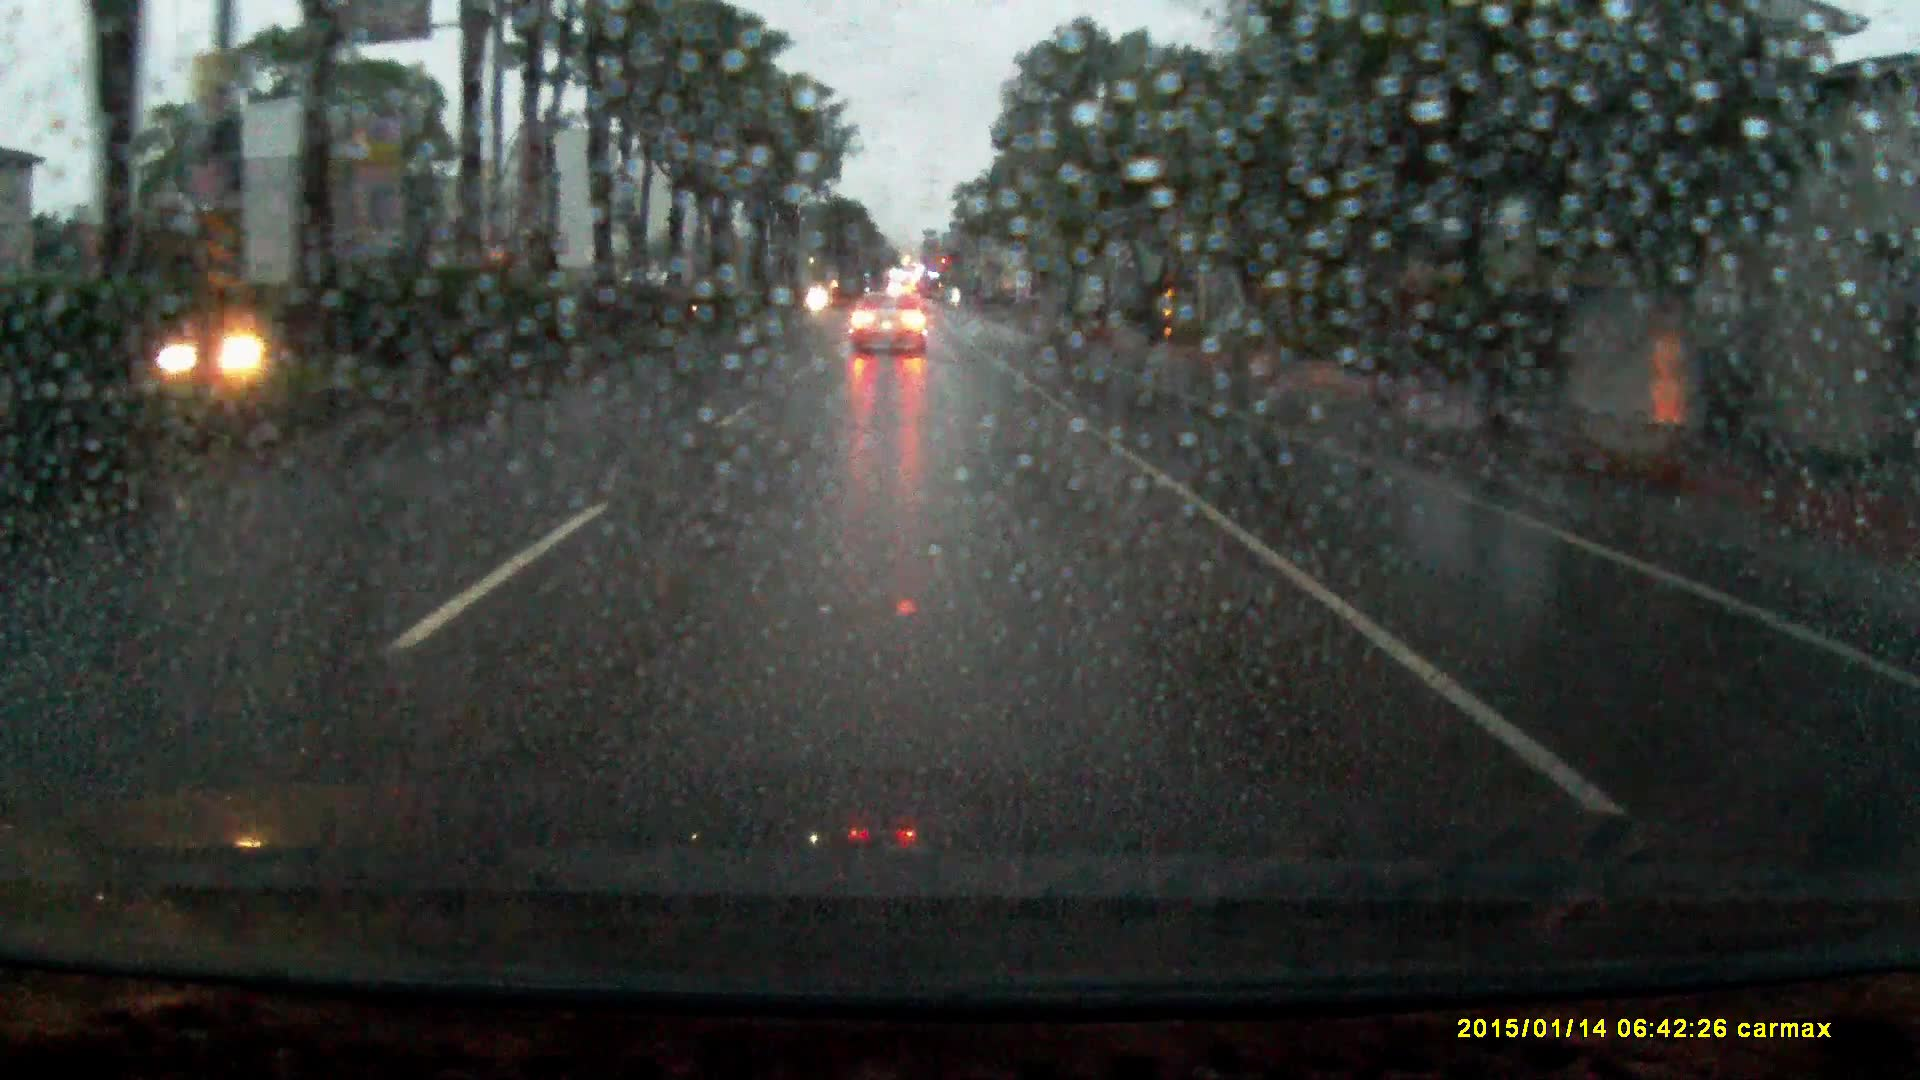vehicle: (153, 313, 303, 384), (848, 287, 930, 357)
